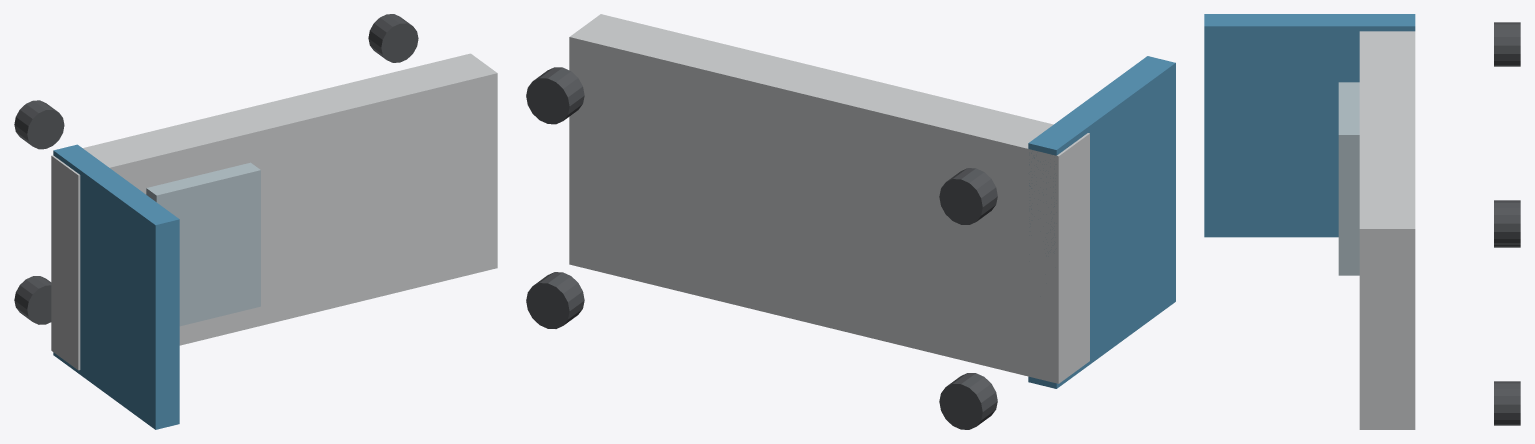
File: hospital_bed.glb
3 renders of one model, left to right at view 1: azimuth 30°, elevation 25°; view 2: azimuth 150°, elevation 25°; view 3: azimuth 270°, elevation 25°, orthographic. The views are drawn at different scales.
Visible parts, largest first — view 1: world; view 2: world; view 3: world.
Boxes of the visible parts, x1,y1,x2,y2 form: world: [14, 14, 497, 429]; world: [526, 14, 1175, 429]; world: [1204, 14, 1520, 429].
Bounding box in the file's own units: 2.25 × 1.1 × 1.42.
